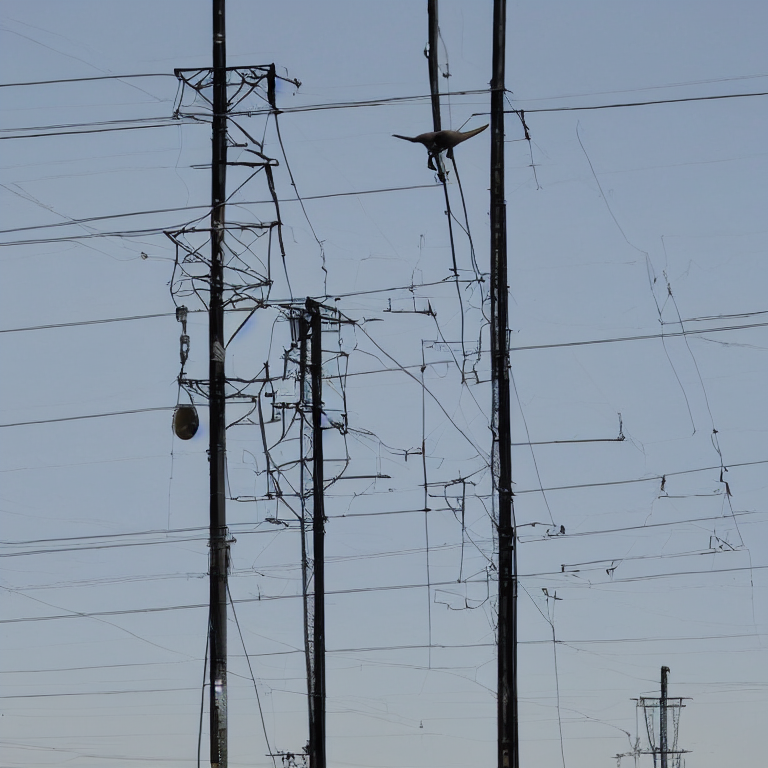nest: (172, 404, 199, 438)
